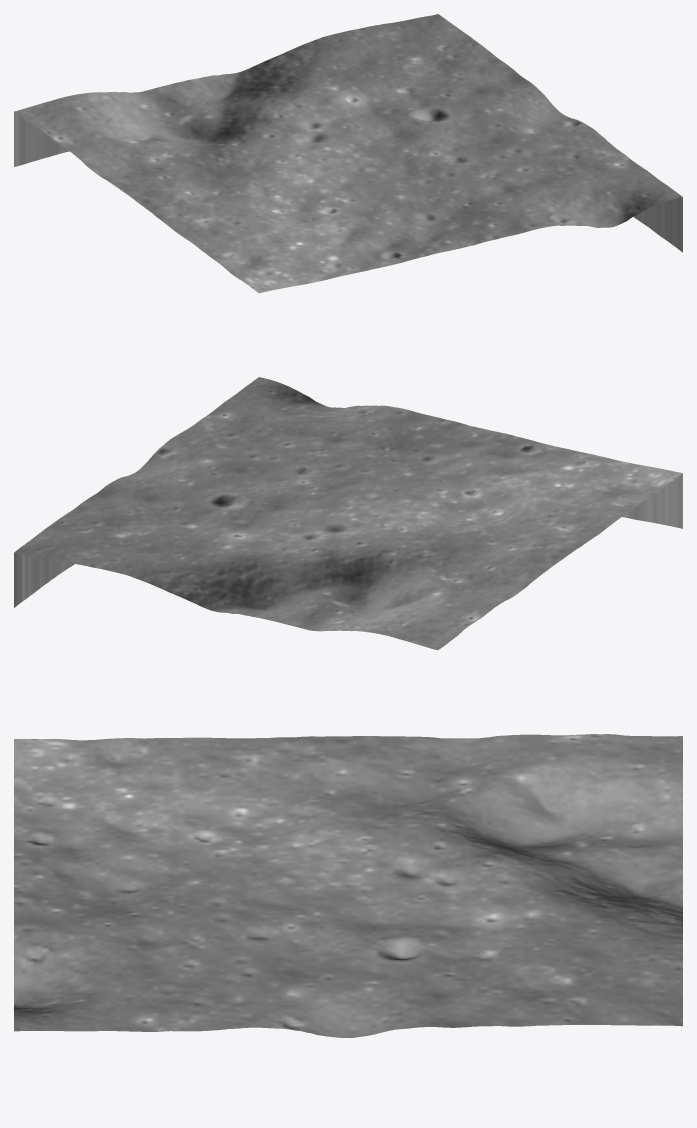
The picture shows the model from 3 angles, top to bottom: view 1: azimuth 30°, elevation 25°; view 2: azimuth 150°, elevation 25°; view 3: azimuth 270°, elevation 25°; orthographic projection. The views are drawn at different scales.
Size of the model in its own units: 638 by 116 by 639.
1 material, 1 textured.
